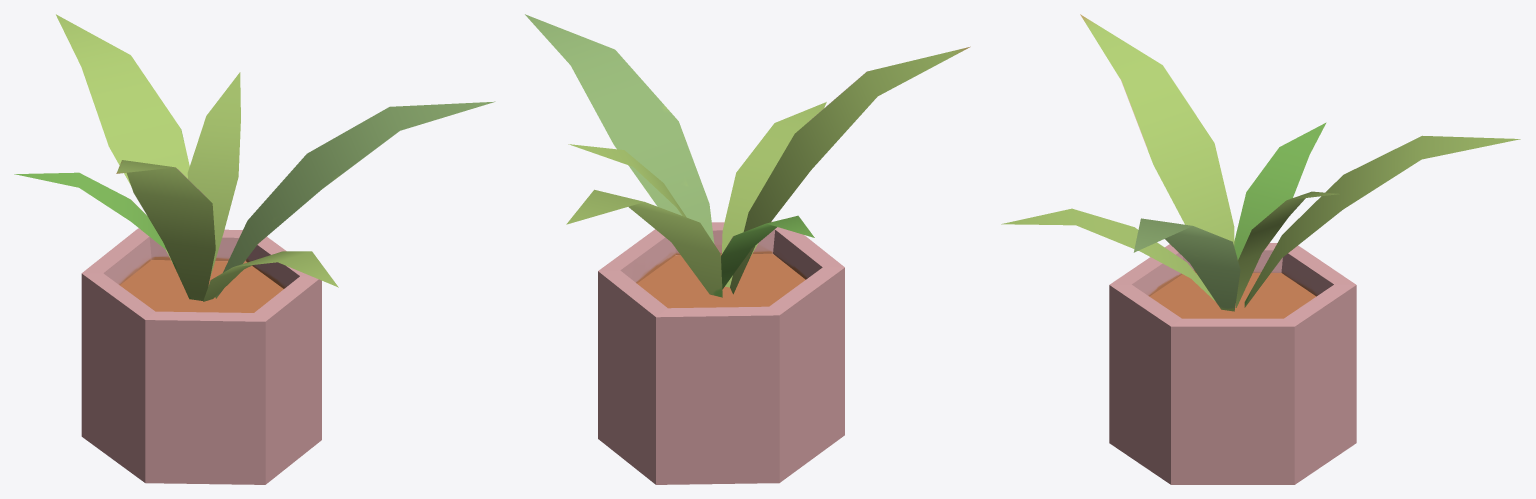
The model's file is Topfpflanze.fbx.
3 renders of one model, left to right at view 1: azimuth 30°, elevation 25°; view 2: azimuth 150°, elevation 25°; view 3: azimuth 270°, elevation 25°, orthographic. The views are drawn at different scales.
Parts seen in each view (by area): view 1: Cylinder, Plane.005; view 2: Cylinder, Plane.005; view 3: Cylinder, Plane.005.
Boxes of the visible parts, bbox=[...] form: Cylinder: bbox=[81, 228, 321, 484]; Plane.005: bbox=[14, 14, 495, 301]; Cylinder: bbox=[598, 221, 844, 484]; Plane.005: bbox=[525, 14, 970, 297]; Cylinder: bbox=[1109, 243, 1356, 484]; Plane.005: bbox=[1001, 14, 1520, 311].
Size of the model in its own units: 92.26 by 78.39 by 105.
